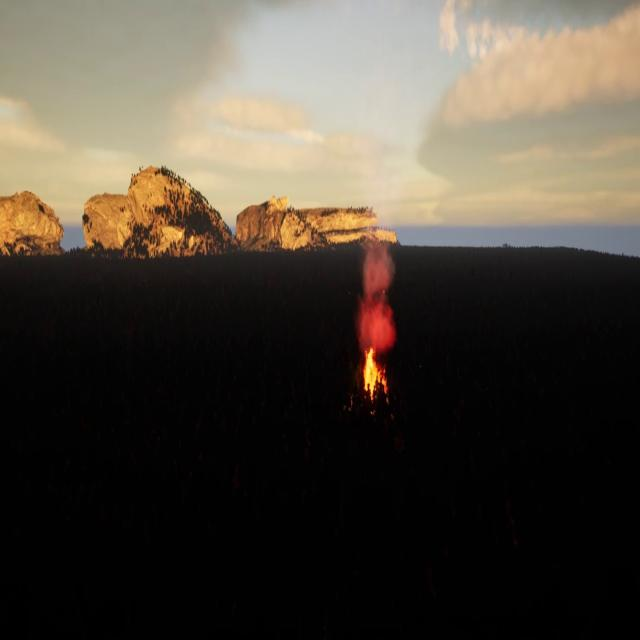fire: (364, 346, 388, 397)
smoke: (357, 228, 401, 354)
